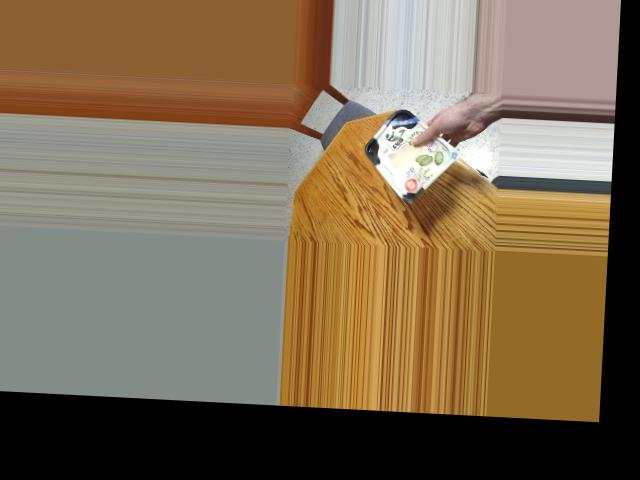cheese: (374, 112, 433, 195)
